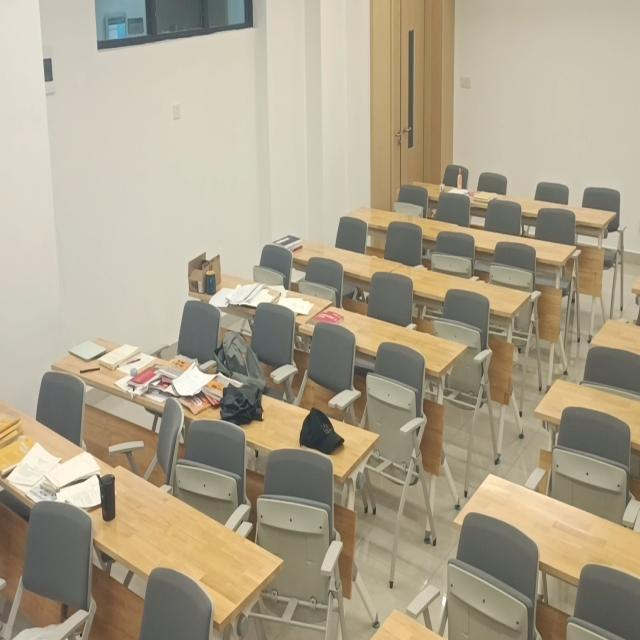Non-empty: (74, 465, 285, 624), (195, 384, 379, 477), (50, 336, 245, 420), (0, 399, 115, 522), (301, 303, 466, 373), (188, 264, 333, 325), (270, 233, 403, 279), (405, 177, 520, 216)
empty: (454, 475, 640, 604), (531, 378, 640, 450), (390, 266, 532, 313), (449, 221, 575, 267), (347, 207, 461, 240), (591, 319, 640, 353)
